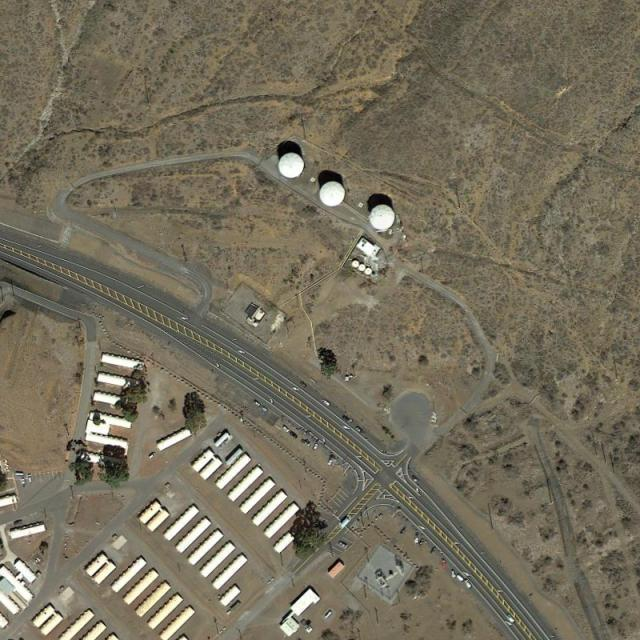vehicle: (506, 613, 516, 623), (456, 574, 465, 583), (338, 541, 348, 549), (322, 400, 332, 408), (290, 430, 298, 440), (430, 546, 438, 556), (13, 519, 24, 526), (343, 415, 351, 424), (148, 452, 157, 460), (327, 456, 334, 466), (441, 559, 448, 569), (450, 569, 457, 578), (466, 578, 472, 588), (299, 382, 307, 389), (283, 426, 290, 434), (412, 474, 419, 482), (419, 538, 426, 546), (356, 426, 363, 433), (253, 401, 261, 407), (28, 476, 33, 485), (262, 406, 268, 413), (314, 443, 319, 451), (22, 478, 26, 488)
